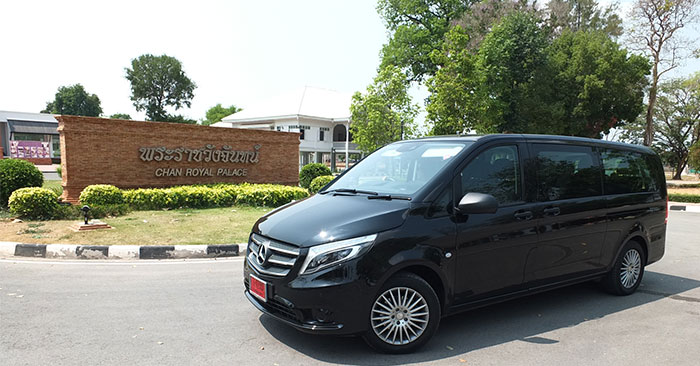van: (242, 132, 668, 355)
